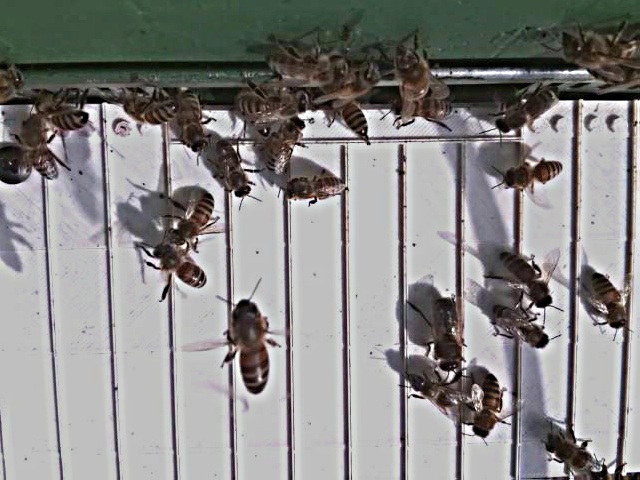Drone: (428, 297, 468, 375)
Worker: (229, 299, 273, 399), (498, 248, 557, 313), (495, 88, 563, 136), (489, 304, 551, 352), (151, 244, 211, 292), (263, 116, 308, 180), (22, 115, 62, 185), (587, 271, 631, 333), (469, 370, 505, 444), (170, 193, 218, 246), (215, 140, 253, 203), (34, 95, 90, 136), (503, 157, 564, 194), (283, 174, 352, 206), (178, 89, 210, 157), (122, 94, 183, 129), (394, 96, 455, 124), (337, 98, 371, 141)
